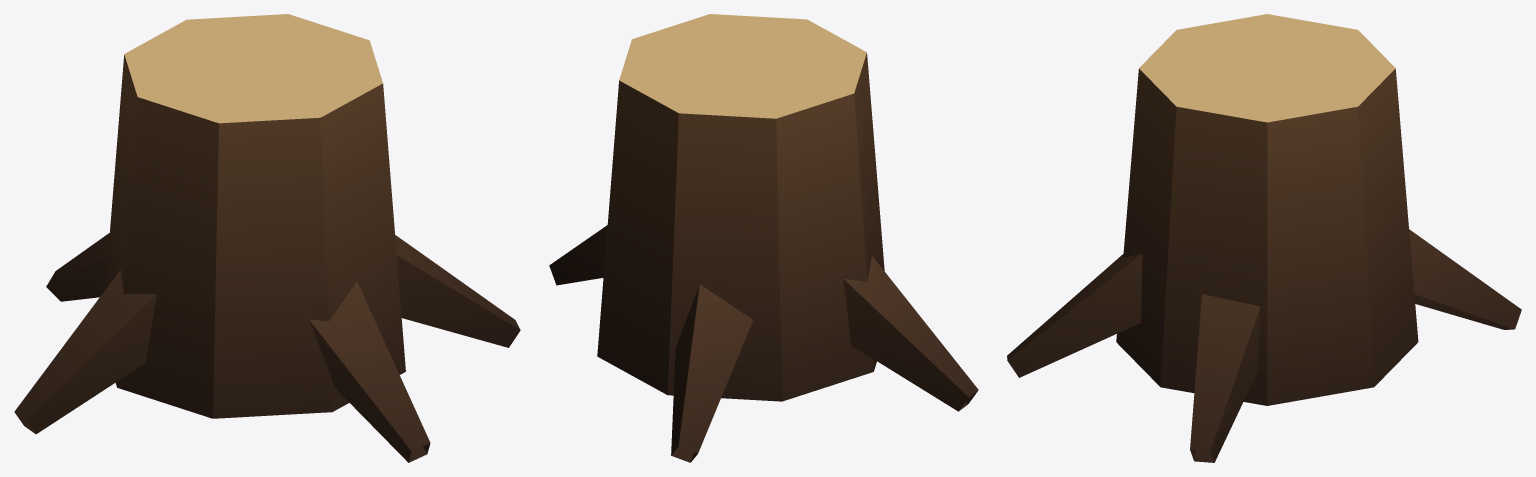
Rendered from PineStump.fbx.
The picture shows the model from 3 angles, left to right: view 1: azimuth 30°, elevation 25°; view 2: azimuth 150°, elevation 25°; view 3: azimuth 270°, elevation 25°; orthographic projection. The views are drawn at different scales.
Visible parts, largest first — view 1: PineStump_LOD0; view 2: PineStump_LOD0; view 3: PineStump_LOD0.
Boxes of the visible parts, x1,y1,x2,y2 form: PineStump_LOD0: [14, 14, 520, 462]; PineStump_LOD0: [549, 14, 978, 462]; PineStump_LOD0: [1007, 14, 1521, 462].
Size of what is drawn, in the model's own units: 1.03 by 0.6442 by 1.02.
1 material, 1 textured.
